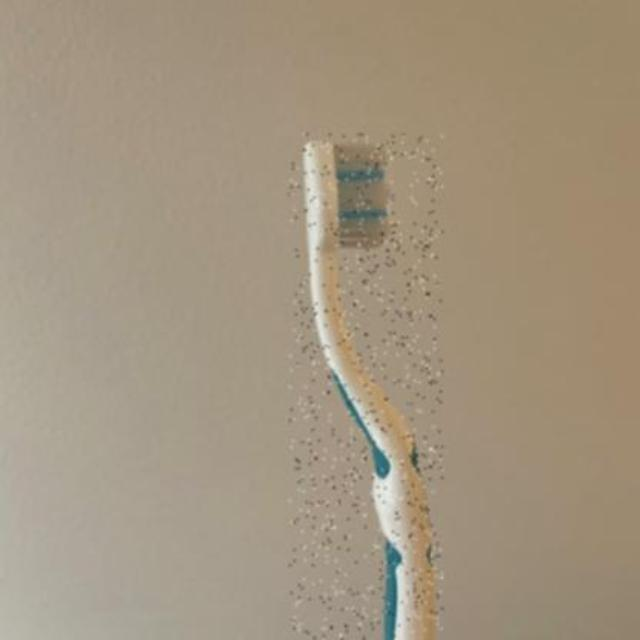toothbrush: (288, 134, 442, 640)
